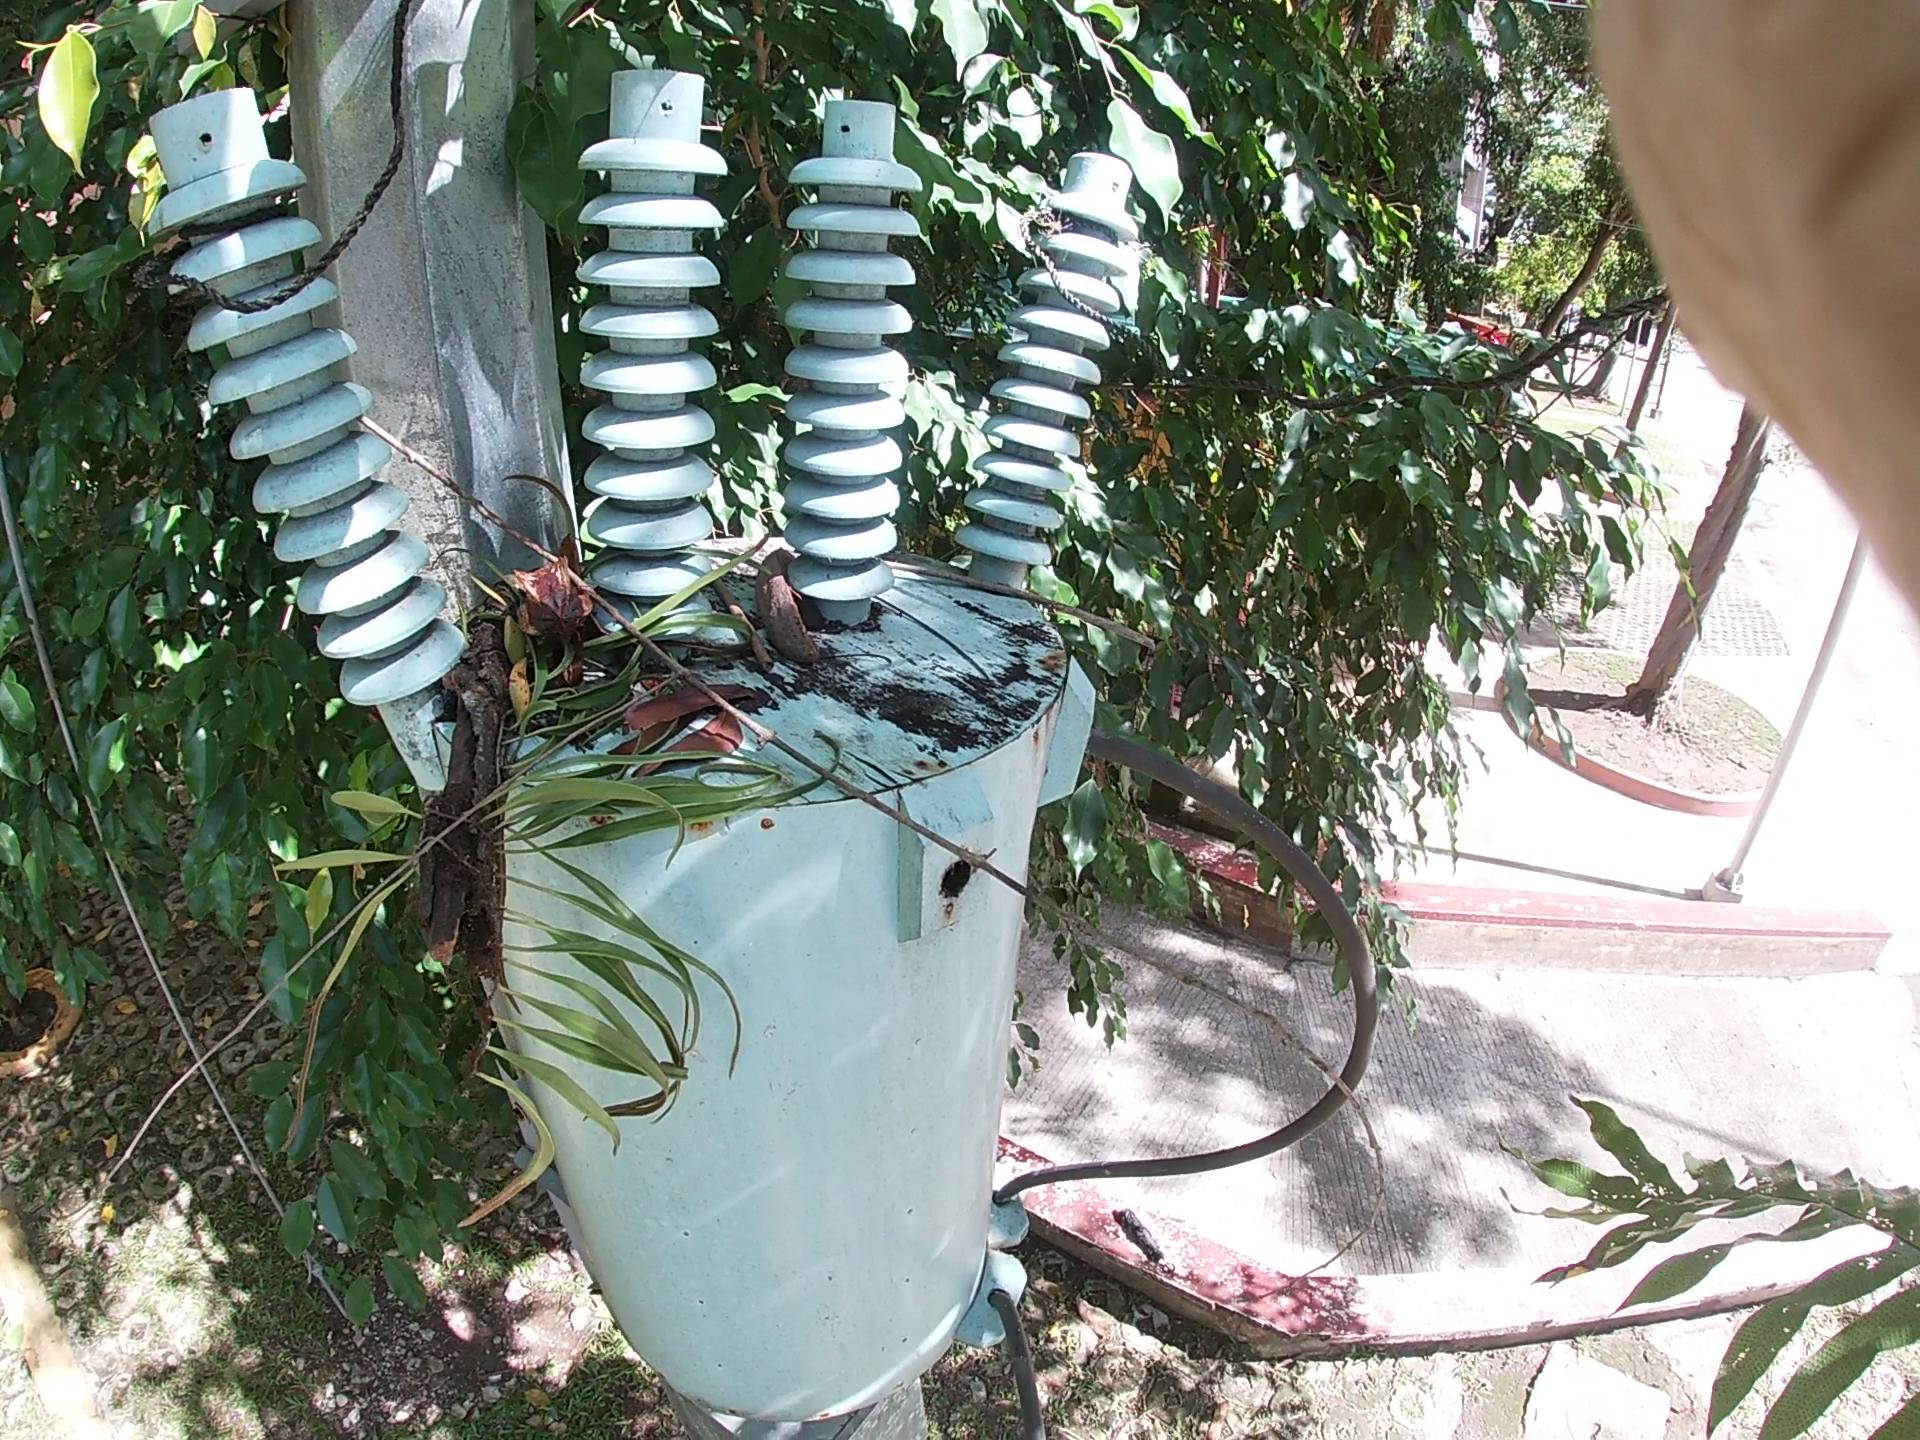branch with leaves: (342, 408, 615, 1190)
leaf: (413, 30, 1397, 546)
mahogany fruit: (741, 511, 857, 726), (494, 535, 627, 656)
tree branch: (274, 337, 1477, 1213), (869, 522, 1219, 672), (668, 513, 830, 743)
